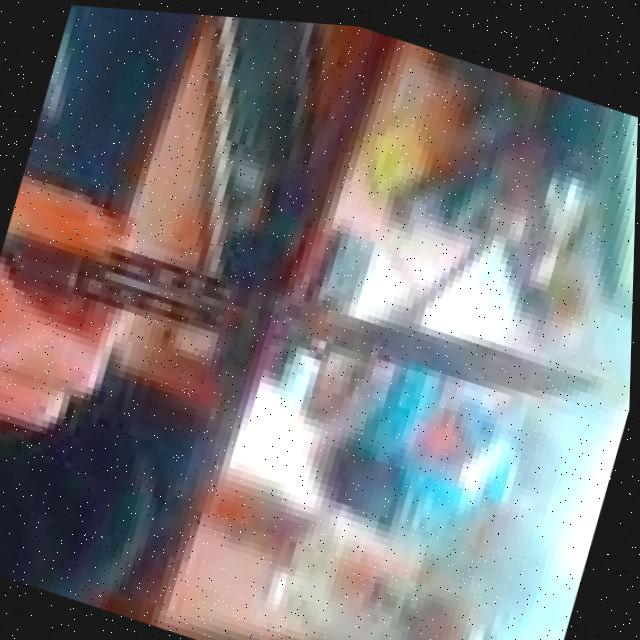knife: (0, 158, 617, 476)
